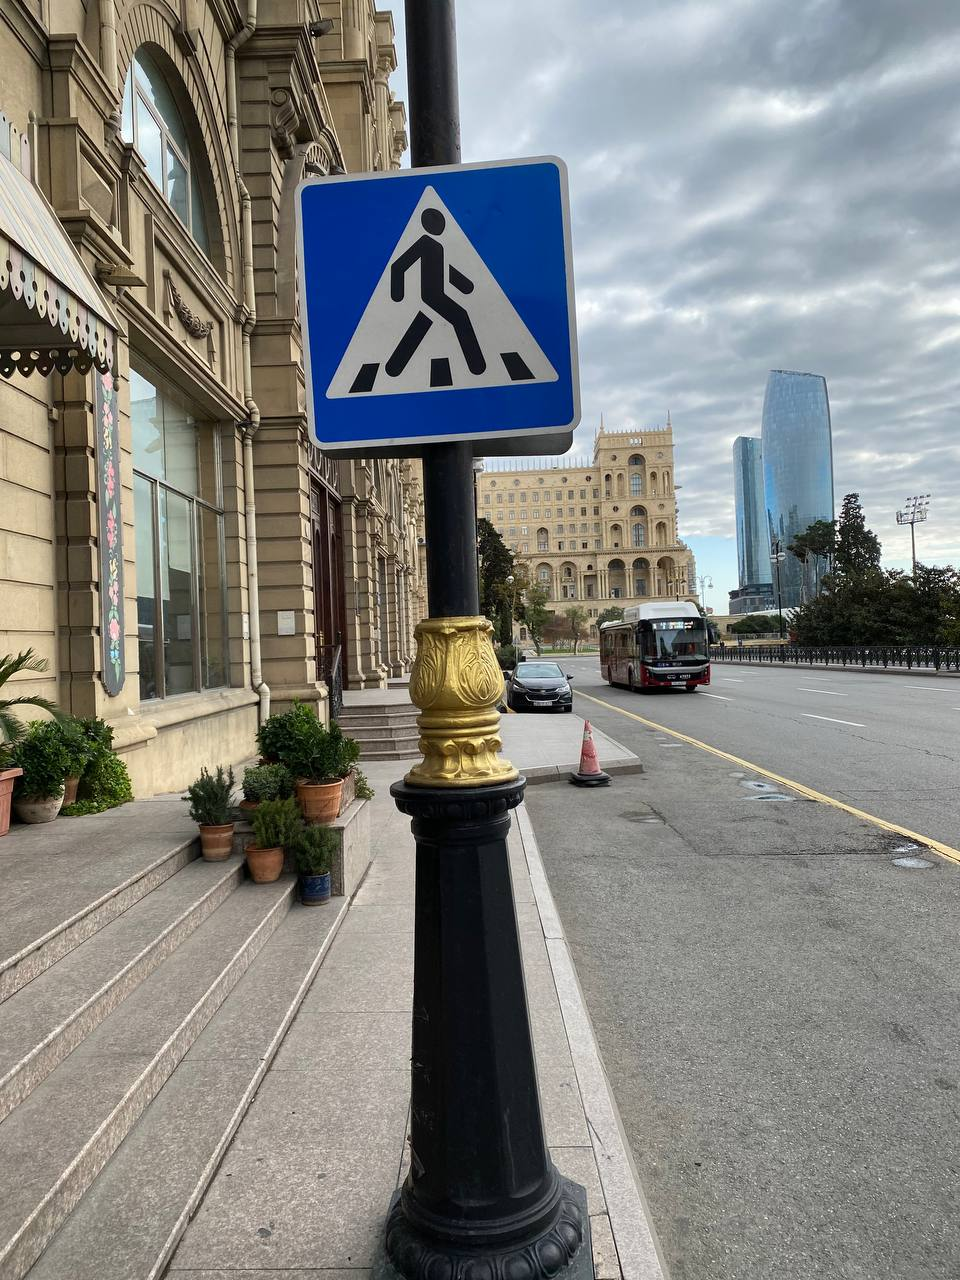Pedestrian Crossing: (294, 153, 582, 447)
